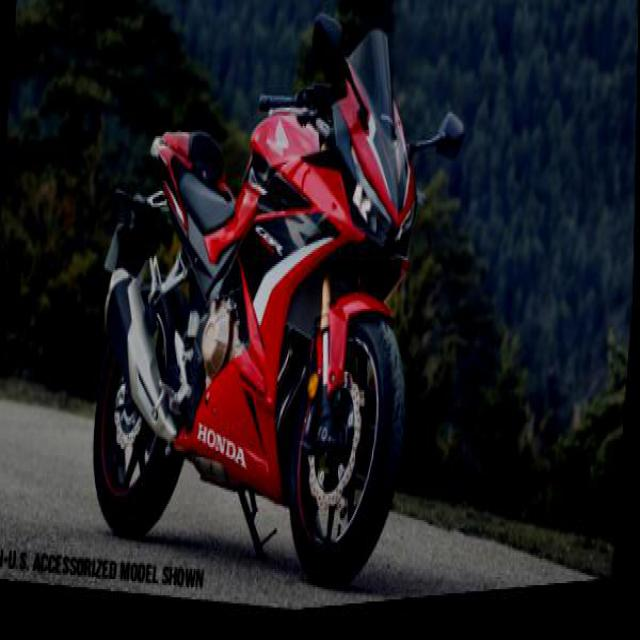CBR500R: (82, 0, 437, 626)
